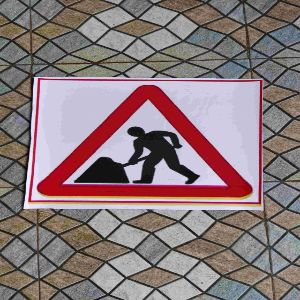men at work: (30, 76, 259, 208)
